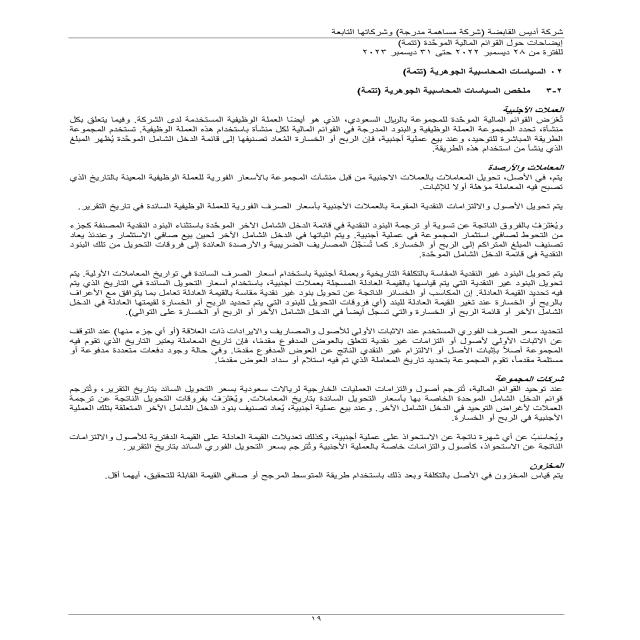notes: (394, 39, 567, 47)
text: (40, 80, 578, 492)
